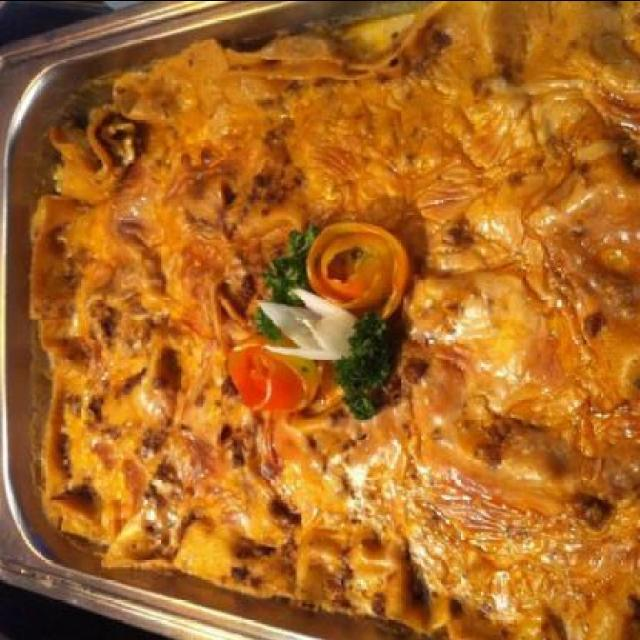Lasagna: (35, 36, 619, 592)
